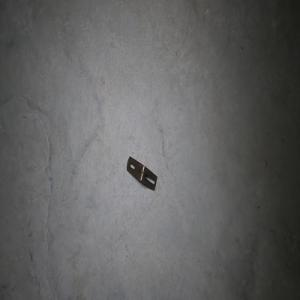MetalPart: (126, 155, 158, 191)
